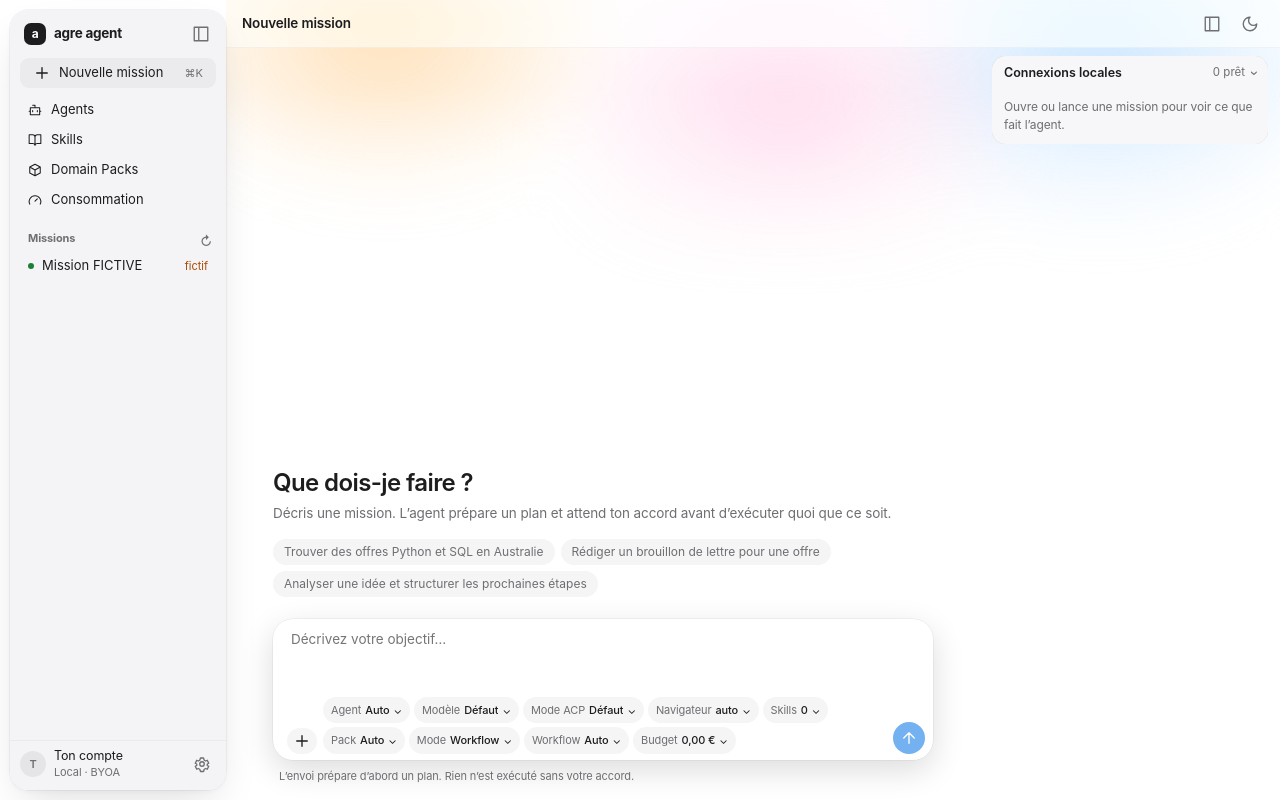
Test: conserve le brouillon de réponse si la reprise échoue
Click the button "Mission FICTIVE fictif" at coordinates (118, 266), box [18,252,218,280]
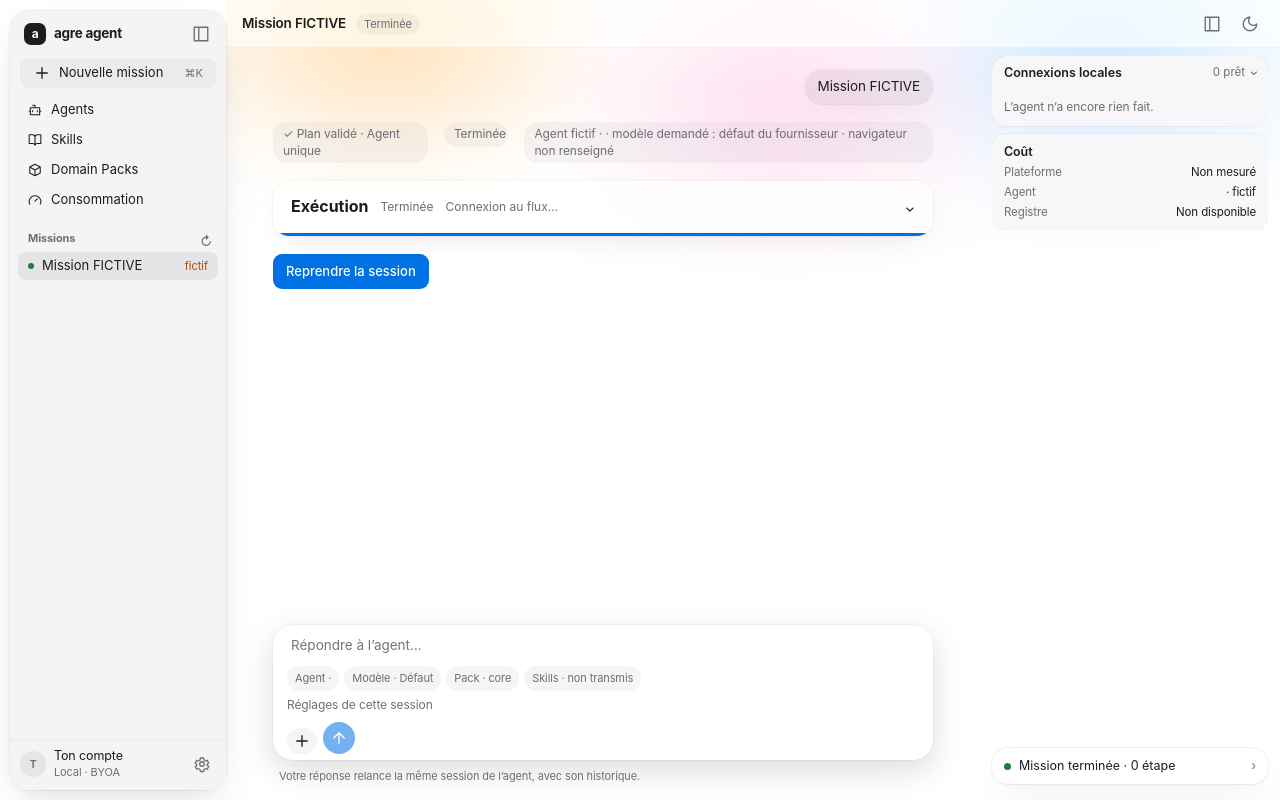
Type "Réponse à conserver" into the text box named "Objectif de la mission" at coordinates (606, 645), box [287,632,925,657]
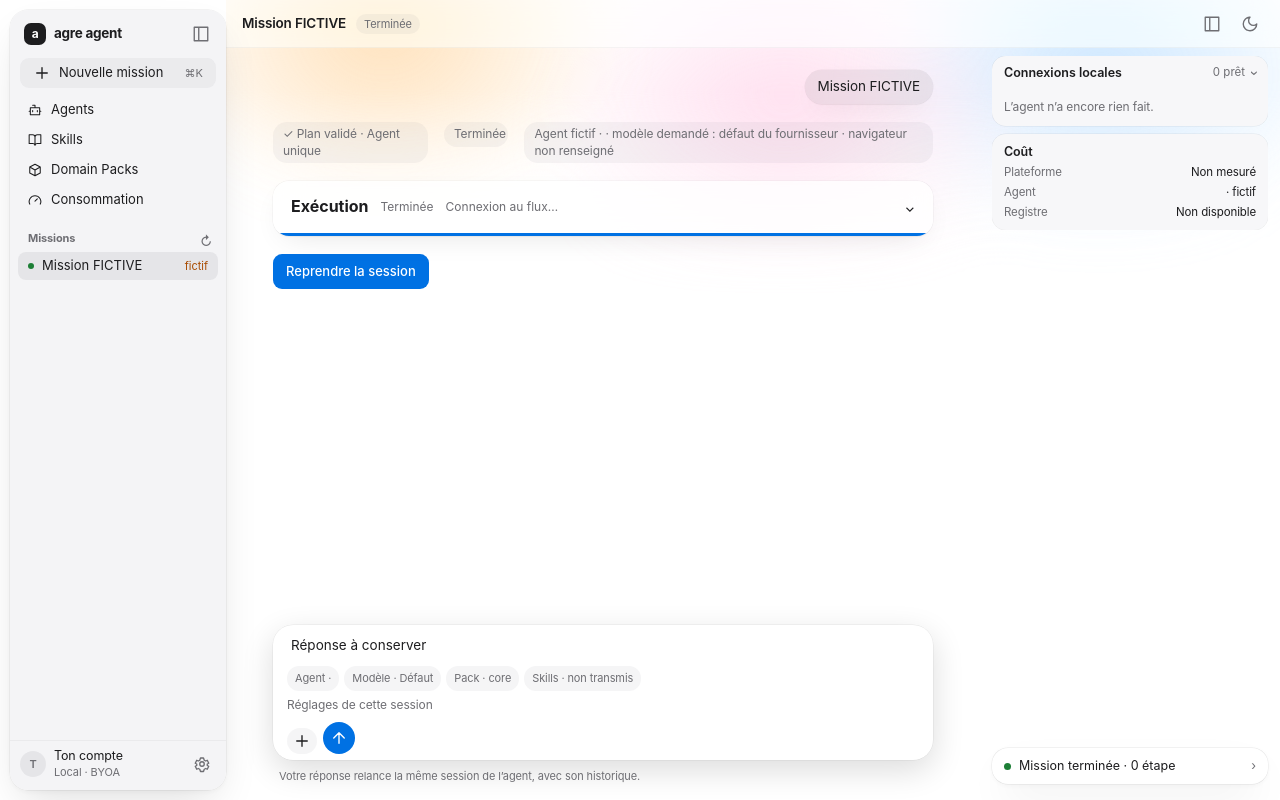
Click the button named "Envoyer la réponse" at coordinates (339, 738), box [323,722,355,754]
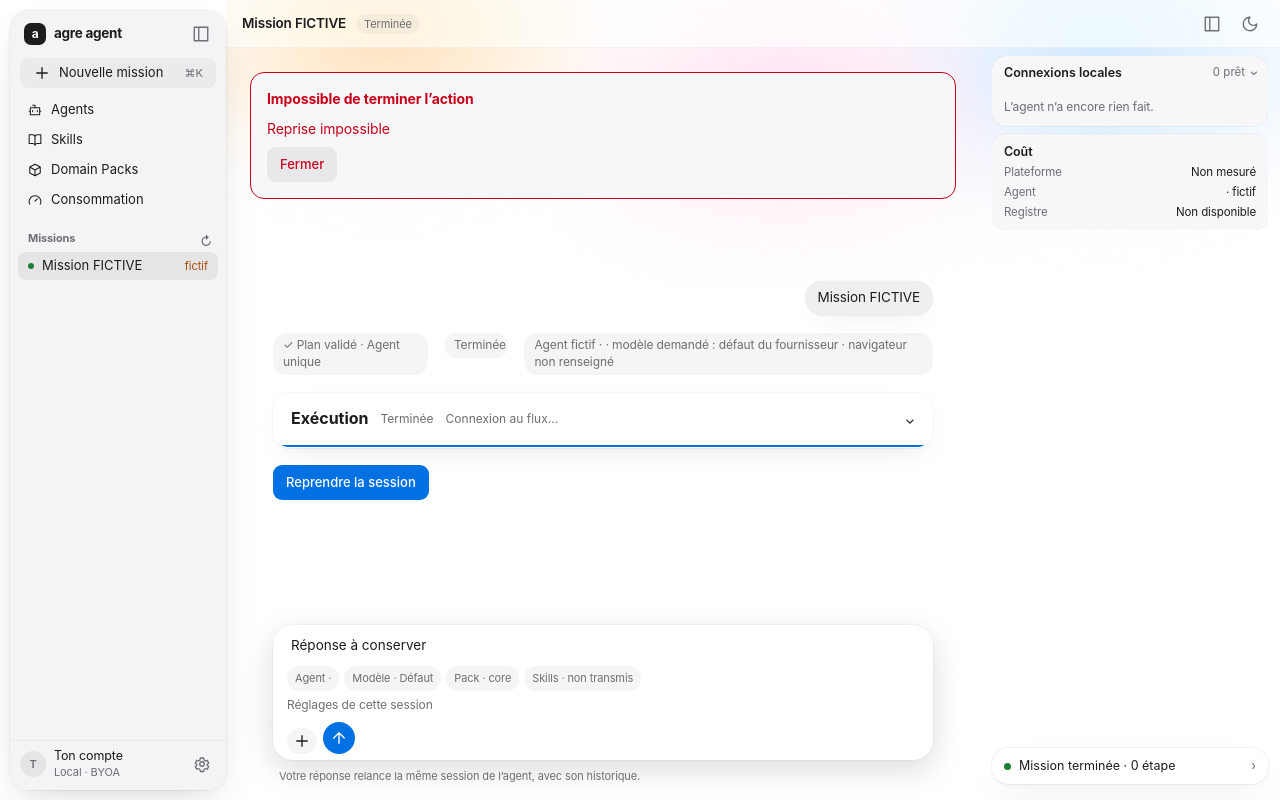
Now the text "Reprise impossible" is shown, box [267,120,390,137]
